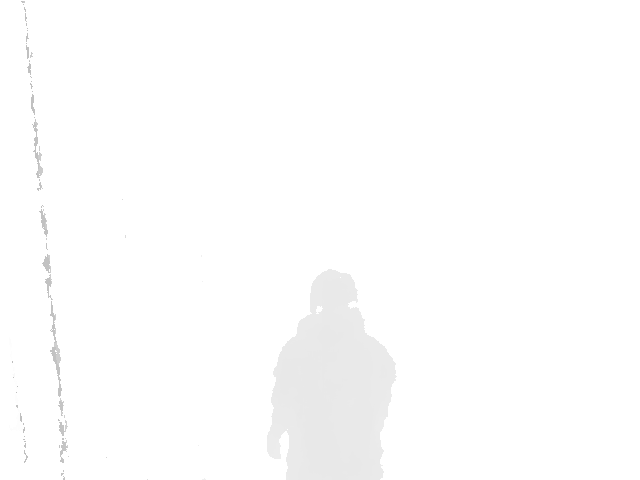head: (309, 269, 359, 337)
person: (266, 270, 399, 480)
